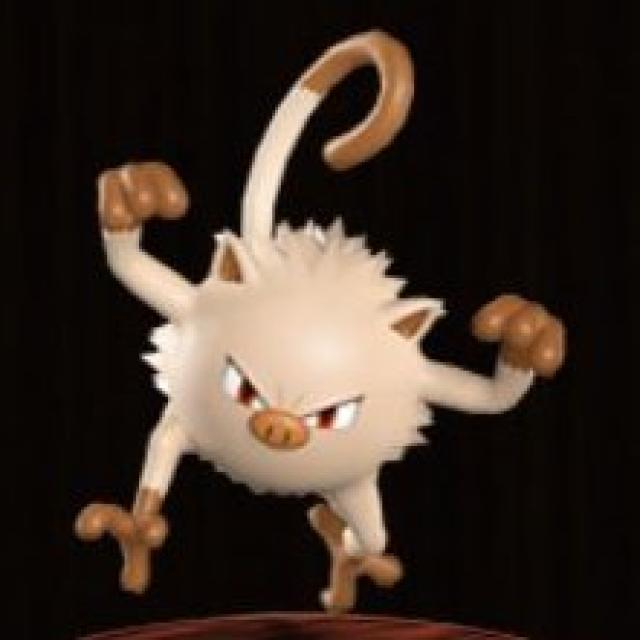Mankey: (73, 181, 460, 593)
